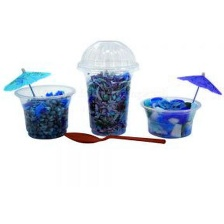glass: (71, 35, 141, 142), (10, 82, 77, 143), (136, 90, 204, 140)
